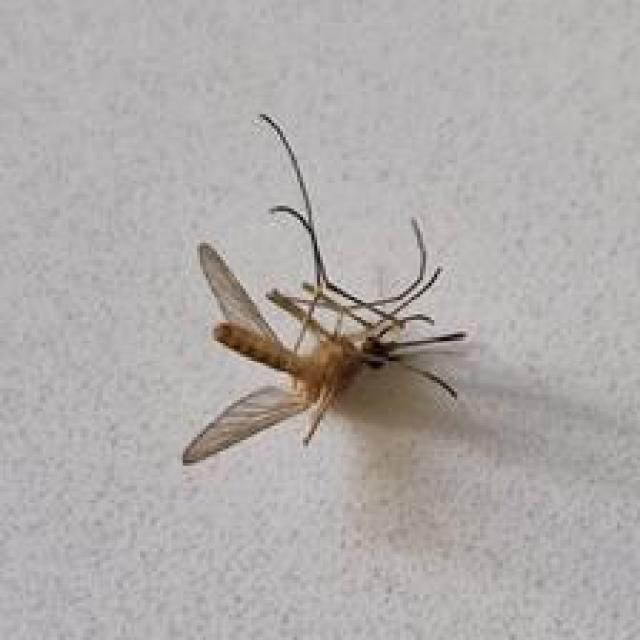Culex: (180, 111, 471, 466)
